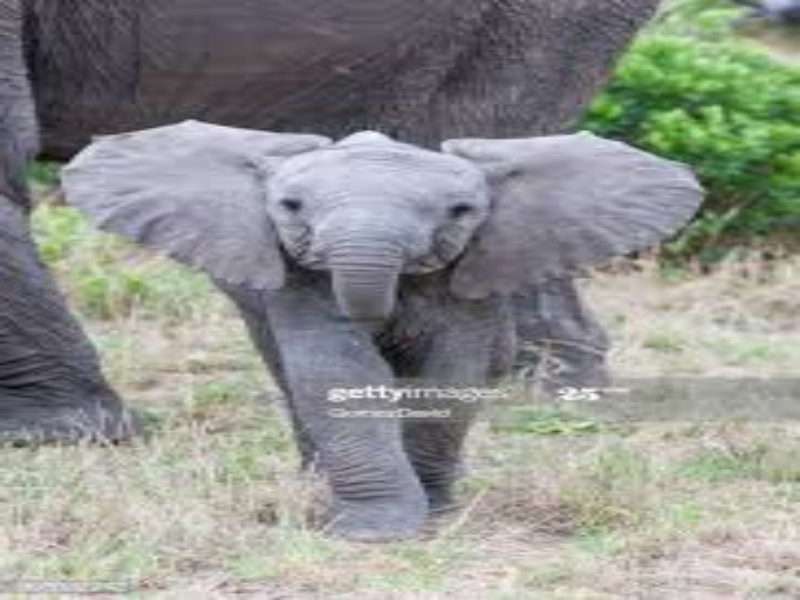elephant: (97, 98, 685, 522)
